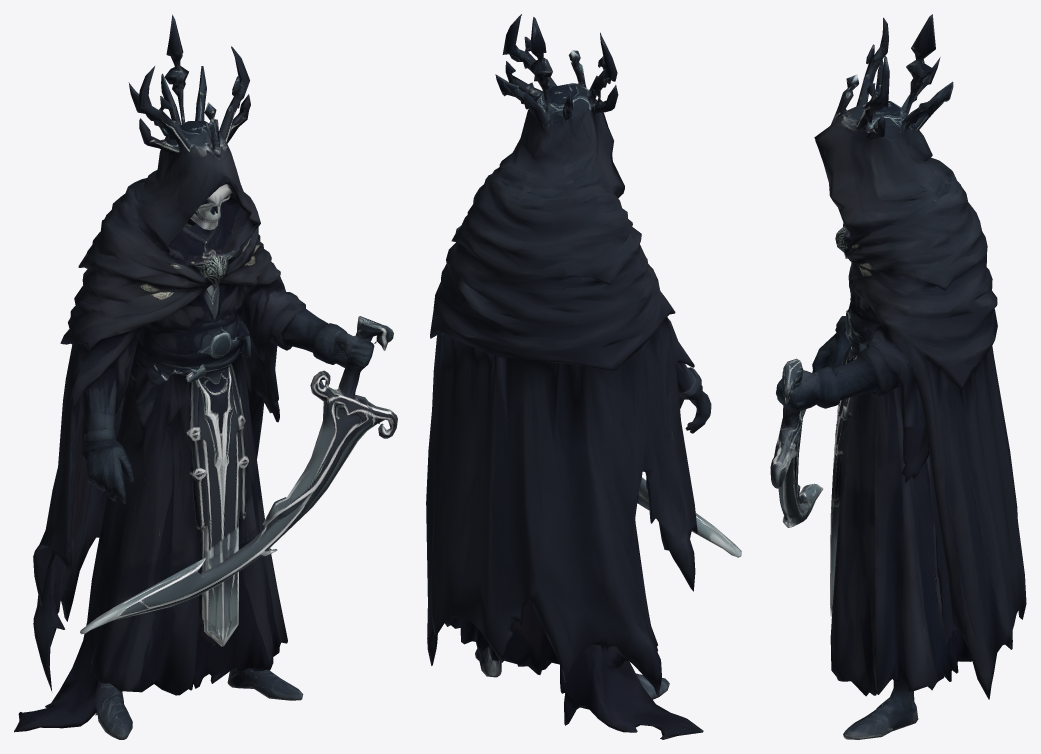
The model's file is shroud_king.glb.
3 renders of one model, left to right at view 1: azimuth 30°, elevation 25°; view 2: azimuth 150°, elevation 25°; view 3: azimuth 270°, elevation 25°, orthographic.
Size of the model in its own units: 0.9253 by 1.91 by 0.6492.
Materials: 1 (1 with a texture image).
